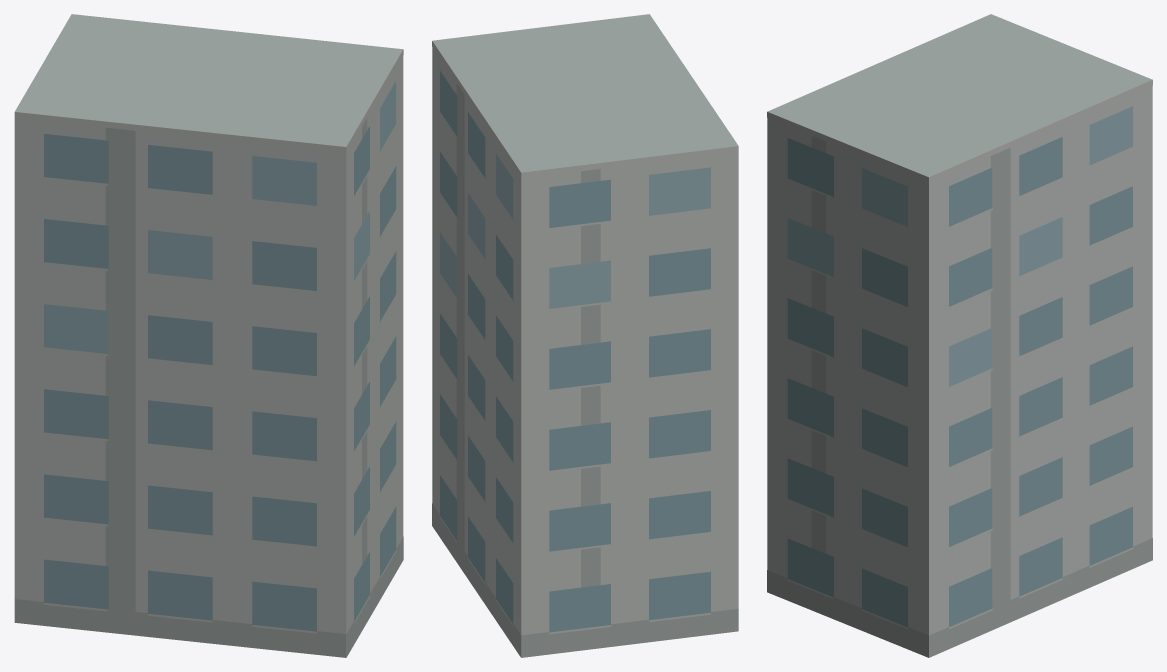
Rendered from survey-upis-32854419.glb.
The picture shows the model from 3 angles, left to right: view 1: azimuth 30°, elevation 25°; view 2: azimuth 150°, elevation 25°; view 3: azimuth 270°, elevation 25°; orthographic projection. The views are drawn at different scales.
Parts seen in each view (by area): view 1: survey-upis-32854419.tmp; view 2: survey-upis-32854419.tmp; view 3: survey-upis-32854419.tmp.
Boxes of the visible parts, x1=… form: survey-upis-32854419.tmp: x1=14, y1=14, x2=403, y2=657; survey-upis-32854419.tmp: x1=432, y1=14, x2=738, y2=657; survey-upis-32854419.tmp: x1=767, y1=14, x2=1152, y2=657.
Size of the model in its own units: 14.66 by 20.1 by 14.62.
